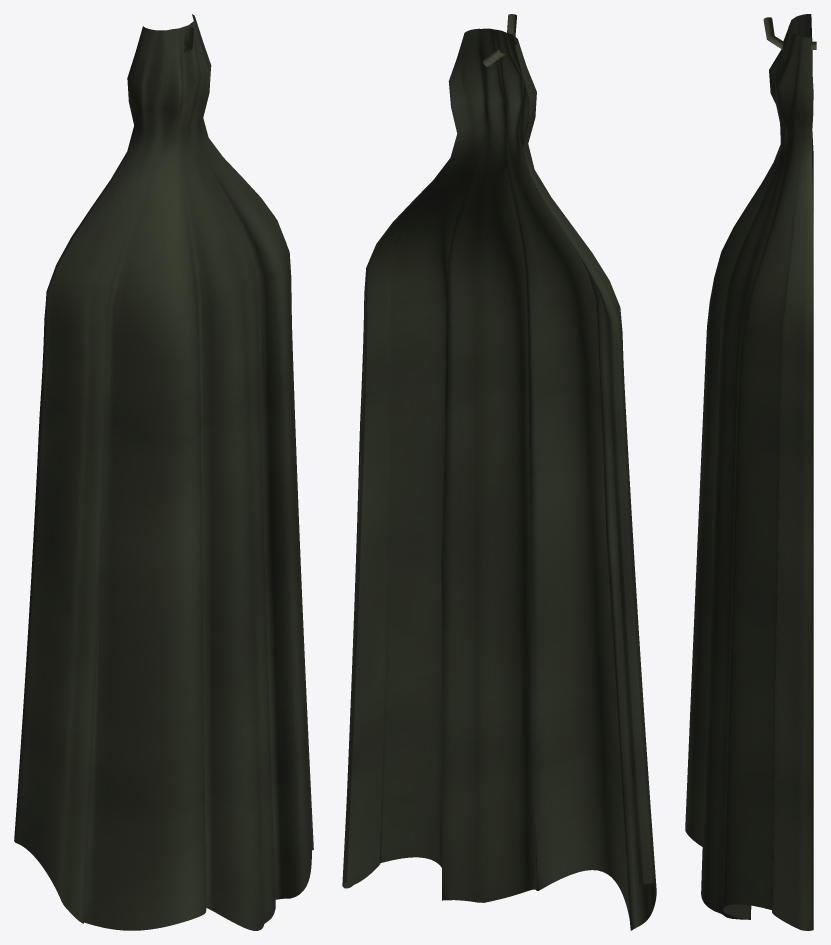
Rendered from capote_colgado.glb.
3 views of the same model, side by side, from view 1: azimuth 30°, elevation 25°; view 2: azimuth 150°, elevation 25°; view 3: azimuth 270°, elevation 25° (orthographic). The views are drawn at different scales.
Visible parts, largest first — view 1: capote_colgado; view 2: capote_colgado; view 3: capote_colgado, gancho.
Part boxes in pixels (x1=…): capote_colgado: x1=14, y1=14, x2=313, y2=930; capote_colgado: x1=342, y1=28, x2=656, y2=930; capote_colgado: x1=685, y1=14, x2=813, y2=930; gancho: x1=763, y1=17, x2=816, y2=49.
Bounding box in the file's own units: 0.4533 × 1.3 × 0.1776.
Materials: 2 (2 with a texture image).
